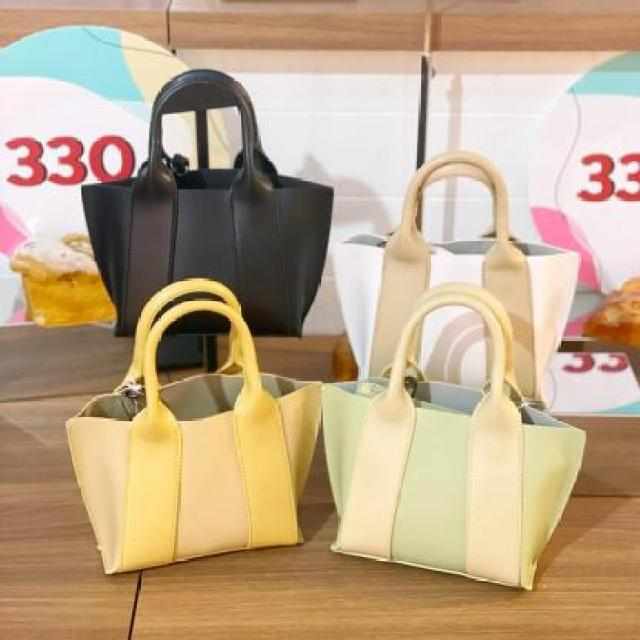Bag: (302, 234, 598, 598), (39, 248, 347, 583), (309, 110, 596, 408), (68, 60, 350, 358)
